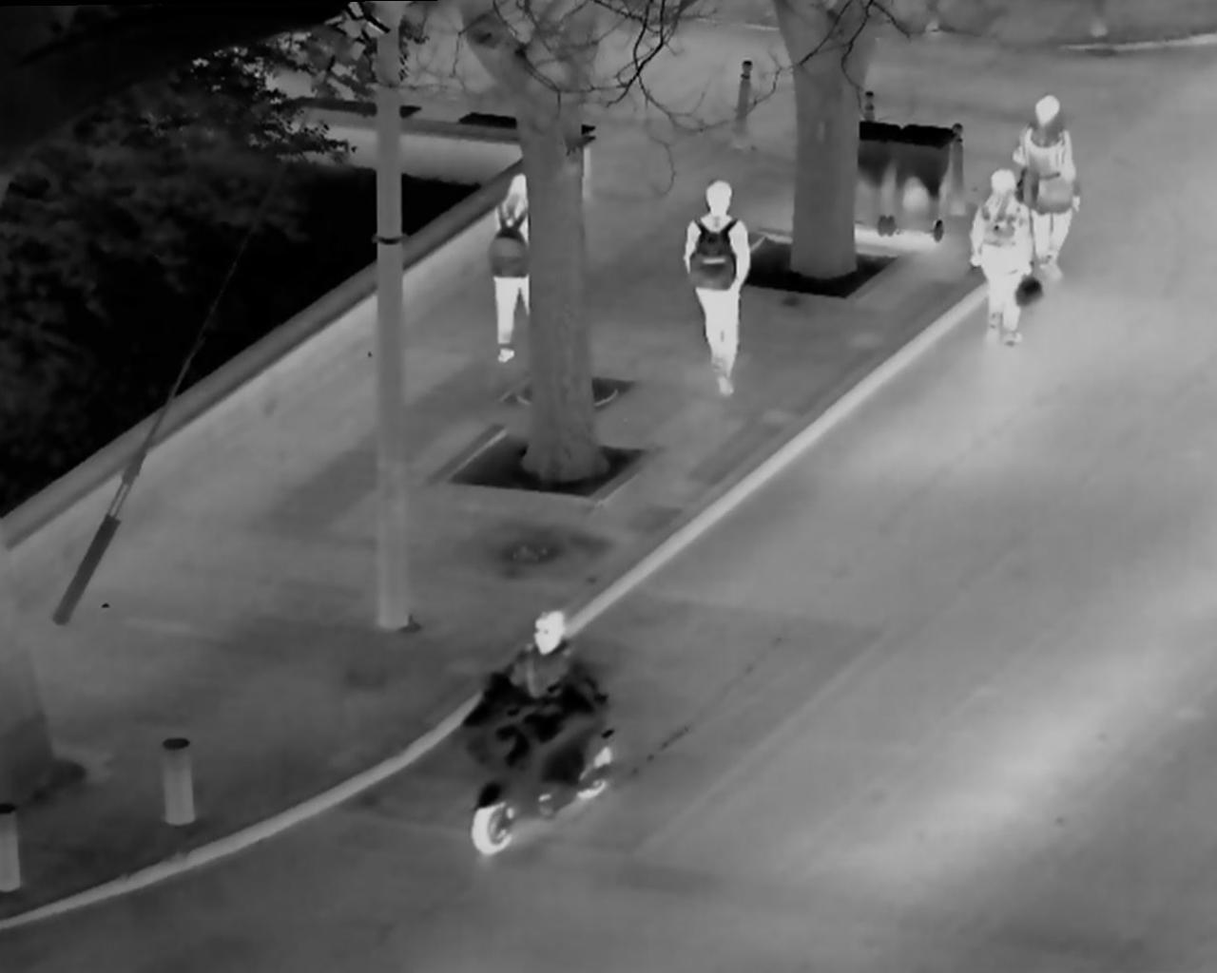person: (458, 596, 629, 841), (666, 168, 765, 407), (1006, 79, 1101, 315), (966, 159, 1049, 371), (478, 161, 557, 360)
